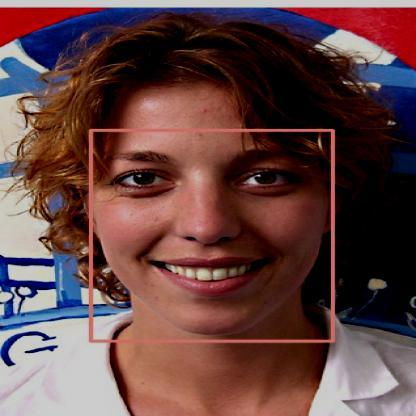without_mask: (91, 130, 333, 341)
